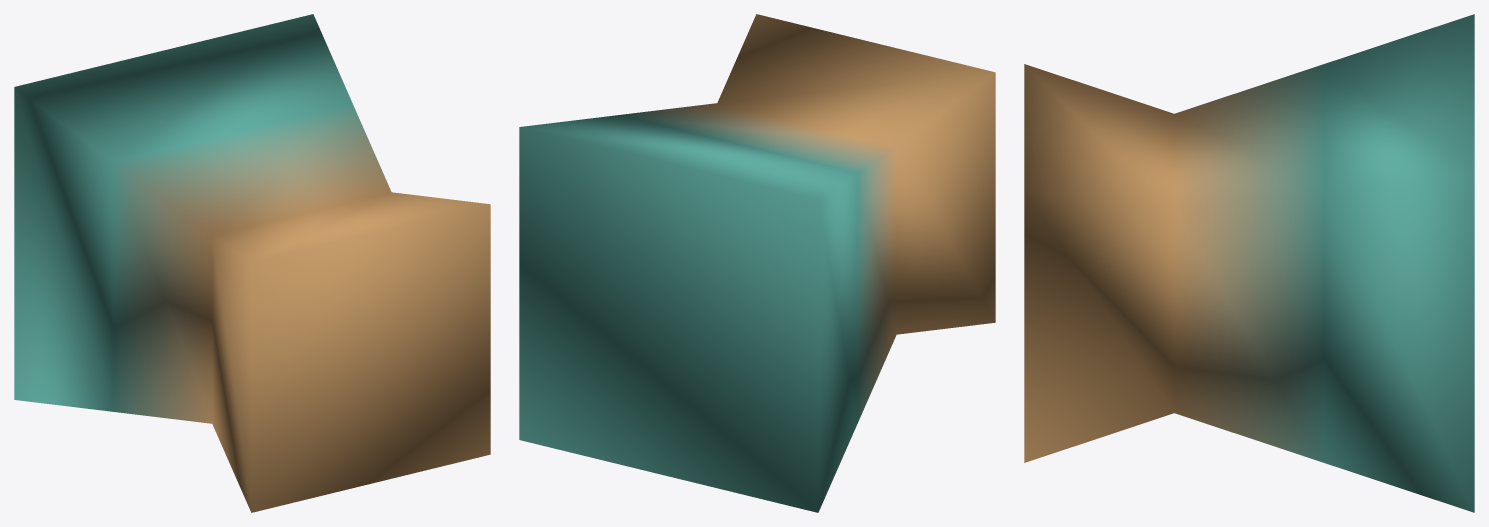
File: x05_artifact.glb
The picture shows the model from 3 angles, left to right: view 1: azimuth 30°, elevation 25°; view 2: azimuth 150°, elevation 25°; view 3: azimuth 270°, elevation 25°; orthographic projection. The views are drawn at different scales.
Parts seen in each view (by area): view 1: ToolboxSolid; view 2: ToolboxSolid; view 3: ToolboxSolid.
Part boxes in pixels (x1,y1,x2,y2): ToolboxSolid: (14, 14, 490, 512); ToolboxSolid: (519, 14, 995, 512); ToolboxSolid: (1024, 14, 1474, 512).
Bounding box in the file's own units: 40 × 40 × 48.
